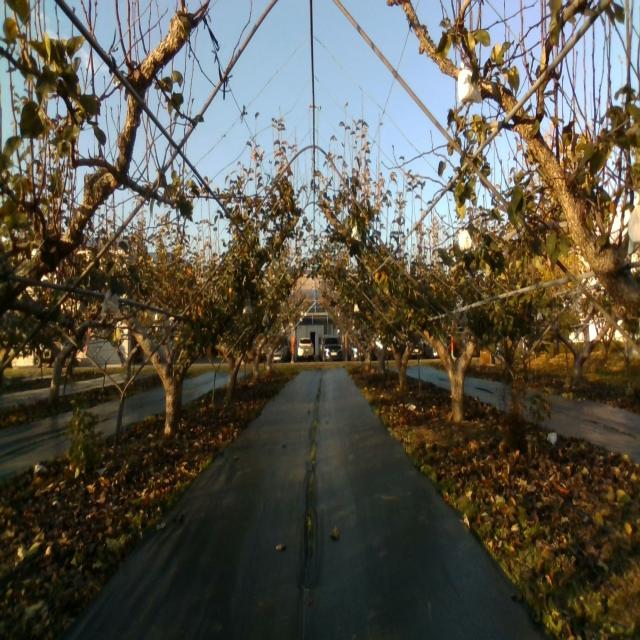pearbags: (457, 61, 483, 103), (626, 194, 640, 255), (102, 288, 119, 316), (458, 227, 474, 253)
